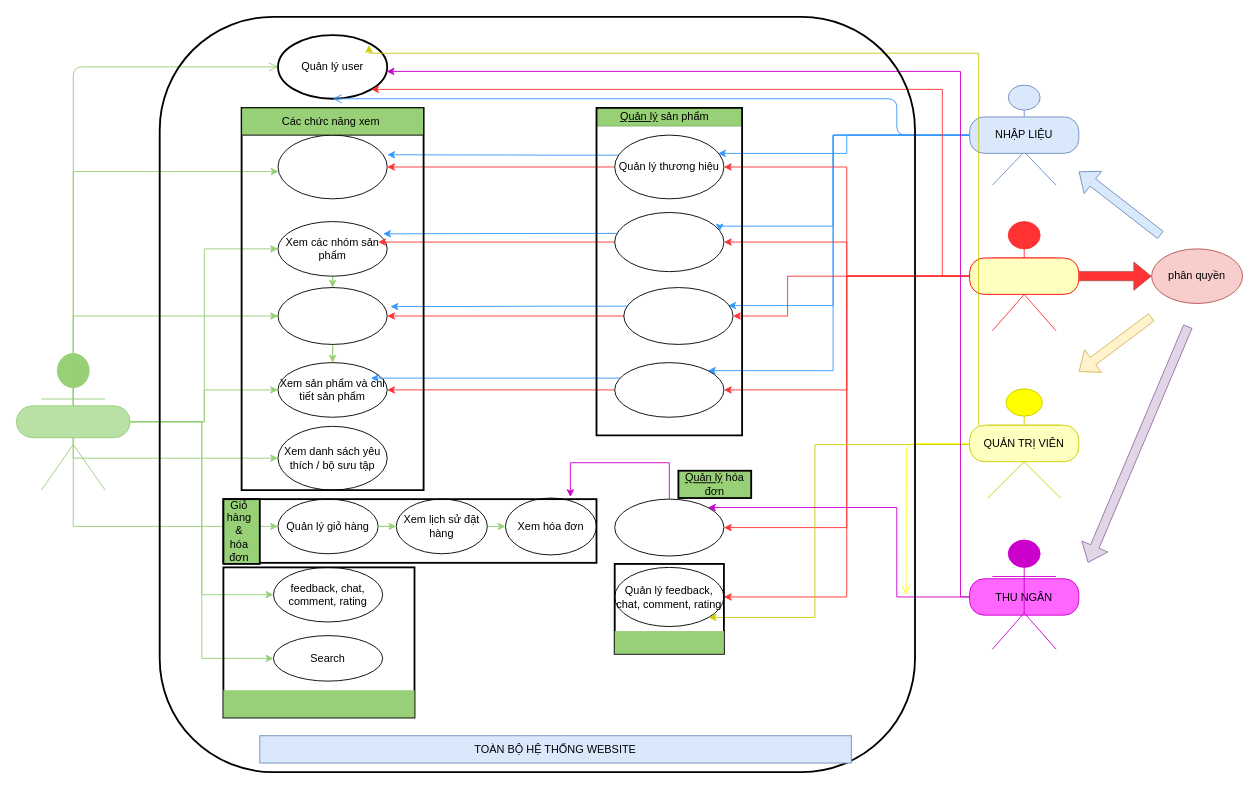
Some shapes in this 1259 by 788 pixel diagram are drawn without their labels. The centre of each missing label's shape, as x and y in pixels:
"ADMIN" belongs at (1024,275).
"Các chức năng phụ" belongs at (318,703).
"Quản lý chức năng phụ" belongs at (668,642).
"Quản lý danh mục" belongs at (678,315).
"Quản lý nhóm" belongs at (669,242).
"Quản lý sản phẩm & chi tiết sản phẩm" belongs at (669,389).
"Quản lý tất cả hóa đơn" belongs at (669,527).
"USER" belongs at (72,421).
"Xem các danh mục sản phẩm" belongs at (332,315).
"Xem danh sách thương hiệu" belongs at (332,166).
